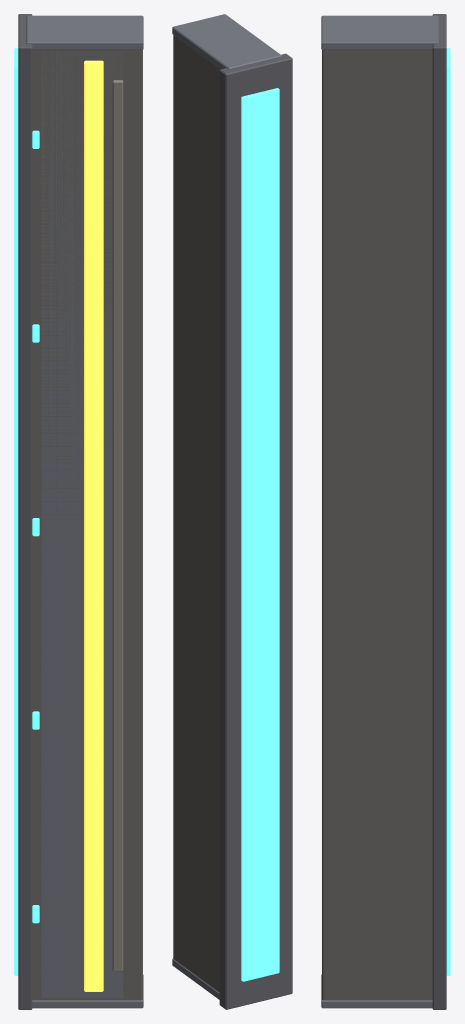
Rendered from curb_ribbon.glb.
The picture shows the model from 3 angles, left to right: view 1: azimuth 90°, elevation 25°; view 2: azimuth 210°, elevation 25°; view 3: azimuth 270°, elevation 25°; orthographic projection. The views are drawn at different scales.
Parts seen in each view (by area): view 1: CurbRibbon; view 2: CurbRibbon; view 3: CurbRibbon.
Part boxes in pixels (left/top/right/bottom): CurbRibbon: left=14, top=14, right=143, bottom=1009; CurbRibbon: left=172, top=14, right=292, bottom=1009; CurbRibbon: left=321, top=14, right=450, bottom=1009.
Bounding box in the file's own units: 0.9 × 11.98 × 1.45.
